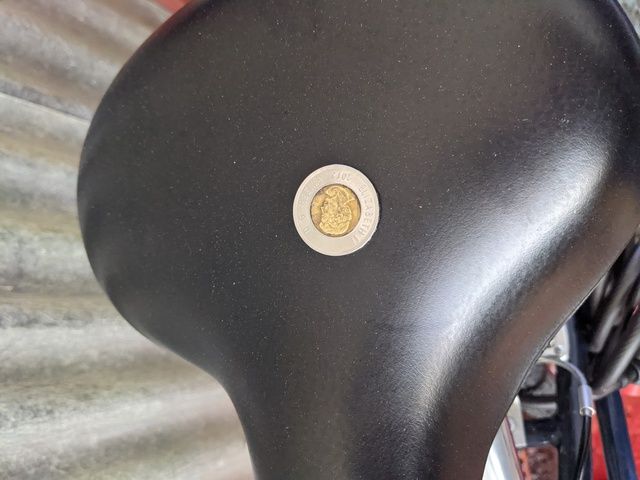twonie: (289, 158, 382, 259)
